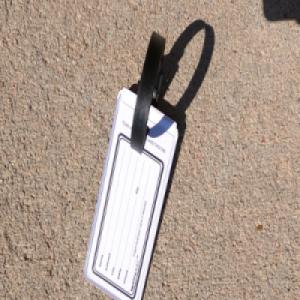LuggageTag: (82, 30, 179, 300)
